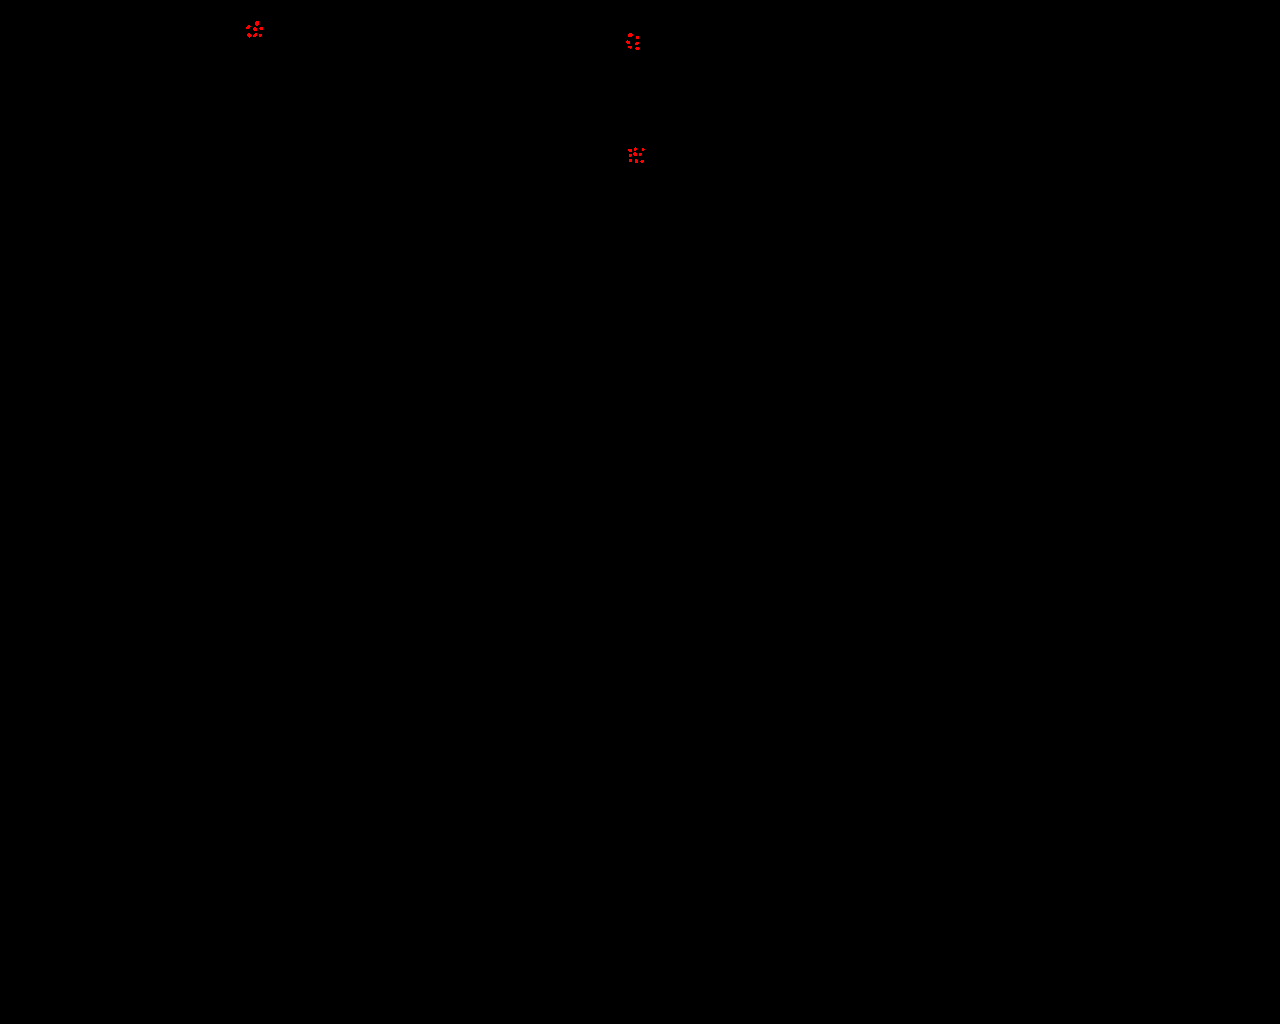Target: (255, 21, 259, 26), (246, 25, 251, 29), (247, 33, 252, 38), (253, 27, 257, 31), (626, 40, 630, 44), (633, 152, 637, 156), (628, 33, 633, 37), (259, 27, 263, 30), (253, 33, 257, 37), (635, 42, 639, 45), (628, 46, 632, 49), (635, 47, 639, 50), (634, 147, 637, 152), (635, 159, 638, 163), (639, 160, 644, 163), (636, 36, 639, 39), (642, 148, 645, 152), (629, 154, 632, 157), (629, 159, 632, 162), (628, 149, 632, 152), (259, 34, 262, 37), (639, 153, 642, 156)
